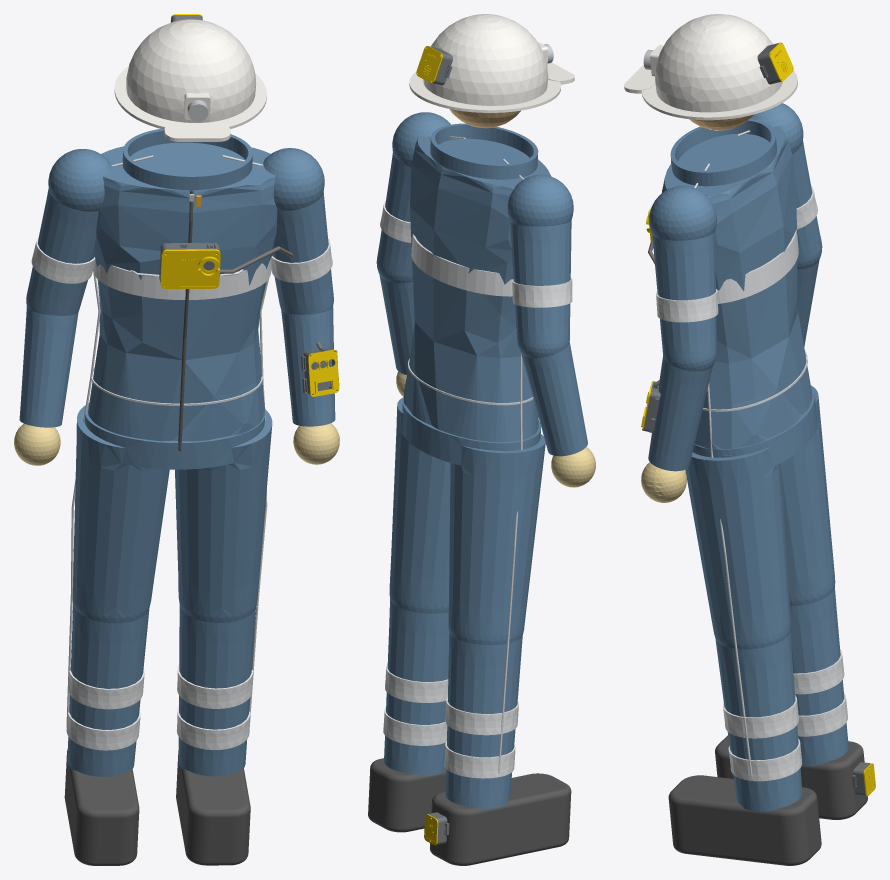
Rendered from smart_suit.glb.
3 renders of one model, left to right at view 1: azimuth 30°, elevation 25°; view 2: azimuth 150°, elevation 25°; view 3: azimuth 270°, elevation 25°, orthographic. The views are drawn at different scales.
Visible parts, largest first — view 1: coverall_limbs, coverall_torso, helmet, boots, reflective_bands, collar, gloves, tear_thread, core_lid, cuff_lid, zip, cuff_base; view 2: coverall_limbs, coverall_torso, boots, helmet, reflective_bands, collar, gloves, tear_thread, skin, helmet_lid; view 3: coverall_limbs, coverall_torso, boots, helmet, reflective_bands, collar, tear_thread, gloves, helmet_lid, skin, cuff_base, helmet_base.
Part boxes in pixels (x1,y1,x2,y2): coverall_limbs: [19, 148, 335, 776]; coverall_torso: [88, 142, 277, 441]; helmet: [114, 19, 266, 141]; boots: [64, 750, 250, 865]; reflective_bands: [31, 236, 332, 750]; collar: [122, 129, 252, 190]; gloves: [14, 423, 339, 465]; tear_thread: [66, 155, 271, 727]; core_lid: [160, 249, 220, 288]; cuff_lid: [308, 349, 339, 396]; zip: [178, 190, 193, 450]; cuff_base: [301, 347, 339, 395]; coverall_limbs: [376, 112, 587, 809]; coverall_torso: [403, 136, 551, 442]; boots: [368, 758, 571, 865]; helmet: [409, 14, 574, 112]; reflective_bands: [380, 201, 572, 778]; collar: [430, 123, 538, 179]; gloves: [396, 371, 595, 487]; tear_thread: [408, 136, 533, 773]; skin: [449, 109, 520, 128]; helmet_lid: [416, 46, 442, 83]; coverall_limbs: [648, 103, 848, 811]; coverall_torso: [662, 126, 812, 457]; boots: [668, 735, 867, 865]; helmet: [624, 14, 797, 120]; reflective_bands: [656, 185, 847, 781]; collar: [670, 118, 776, 186]; tear_thread: [694, 130, 807, 776]; gloves: [641, 462, 686, 502]; helmet_lid: [769, 42, 793, 81]; skin: [689, 114, 753, 130]; cuff_base: [643, 381, 660, 432]; helmet_base: [757, 43, 781, 84].
Size of the model in its own units: 607 by 1801 by 503.
